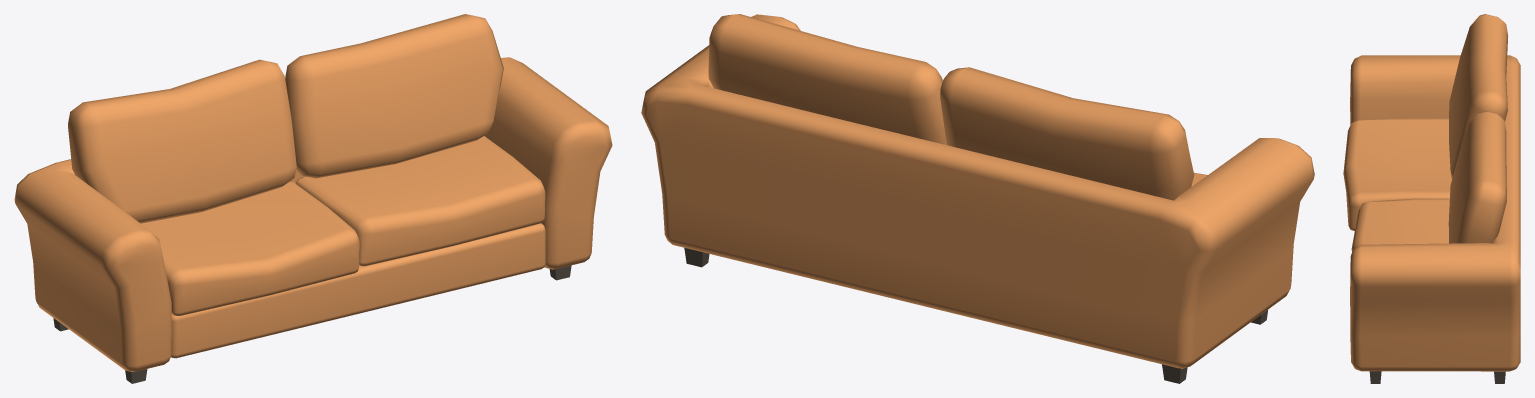
File: SM_Prop_Couch_05.obj
3 views of the same model, side by side, from view 1: azimuth 30°, elevation 25°; view 2: azimuth 150°, elevation 25°; view 3: azimuth 270°, elevation 25° (orthographic). The views are drawn at different scales.
Visible parts, largest first — view 1: SM_Prop_Couch_05_Mat_SwatchOverlay_PolygonTown_01_Inst; view 2: SM_Prop_Couch_05_Mat_SwatchOverlay_PolygonTown_01_Inst; view 3: SM_Prop_Couch_05_Mat_SwatchOverlay_PolygonTown_01_Inst.
Part boxes in pixels (x1,y1,x2,y2): SM_Prop_Couch_05_Mat_SwatchOverlay_PolygonTown_01_Inst: [14, 14, 612, 383]; SM_Prop_Couch_05_Mat_SwatchOverlay_PolygonTown_01_Inst: [641, 14, 1314, 383]; SM_Prop_Couch_05_Mat_SwatchOverlay_PolygonTown_01_Inst: [1343, 14, 1520, 383].
Bounding box in the file's own units: 2.82 × 1.19 × 0.9803.
Materials: 1 (1 with a texture image).
